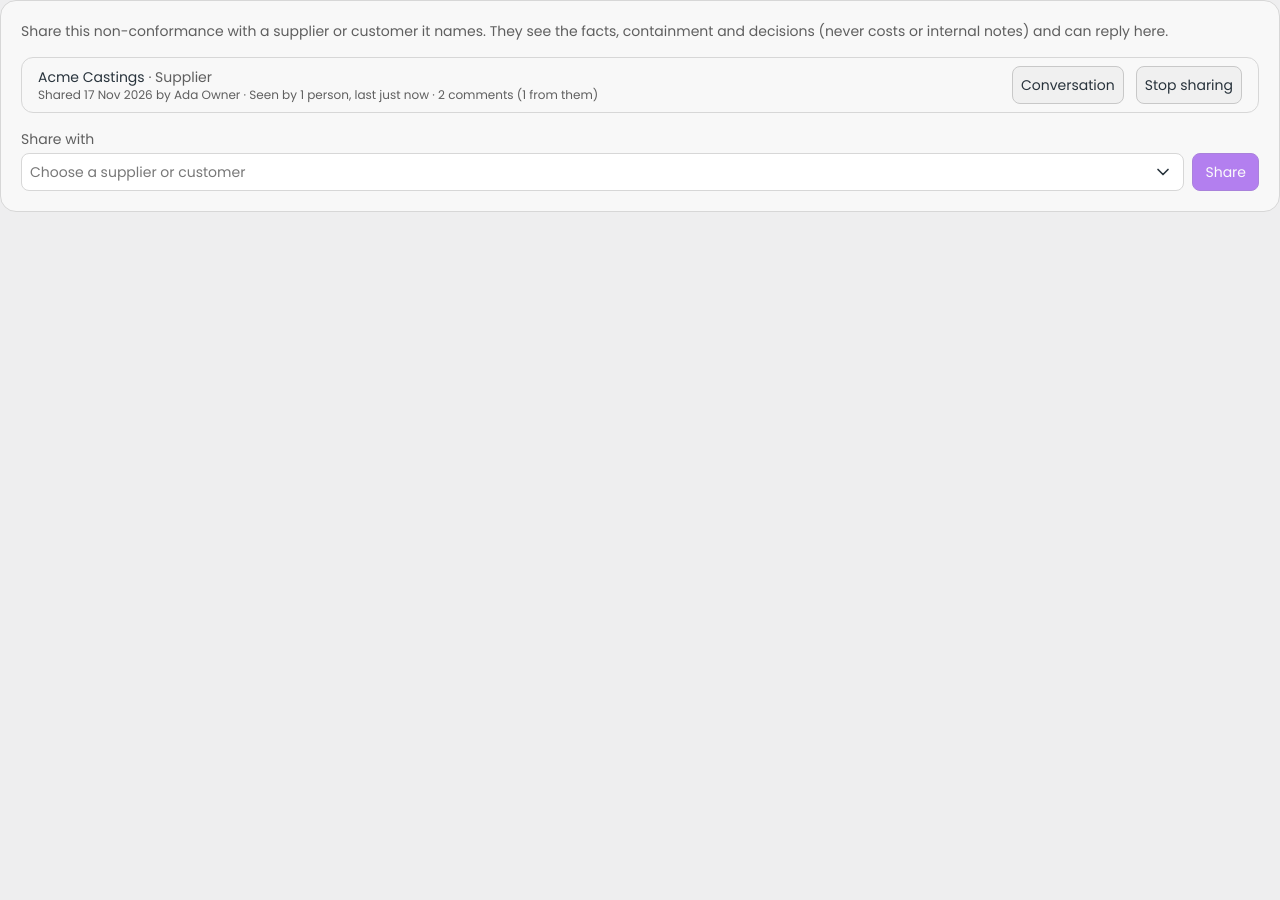
Test: the share card on a record › stopping asks for a reason
Later steps or results of the test are not shown.
Click the button with aria-label "Stop sharing with Acme Castings": click(1189, 85) [1136,66,1242,104]
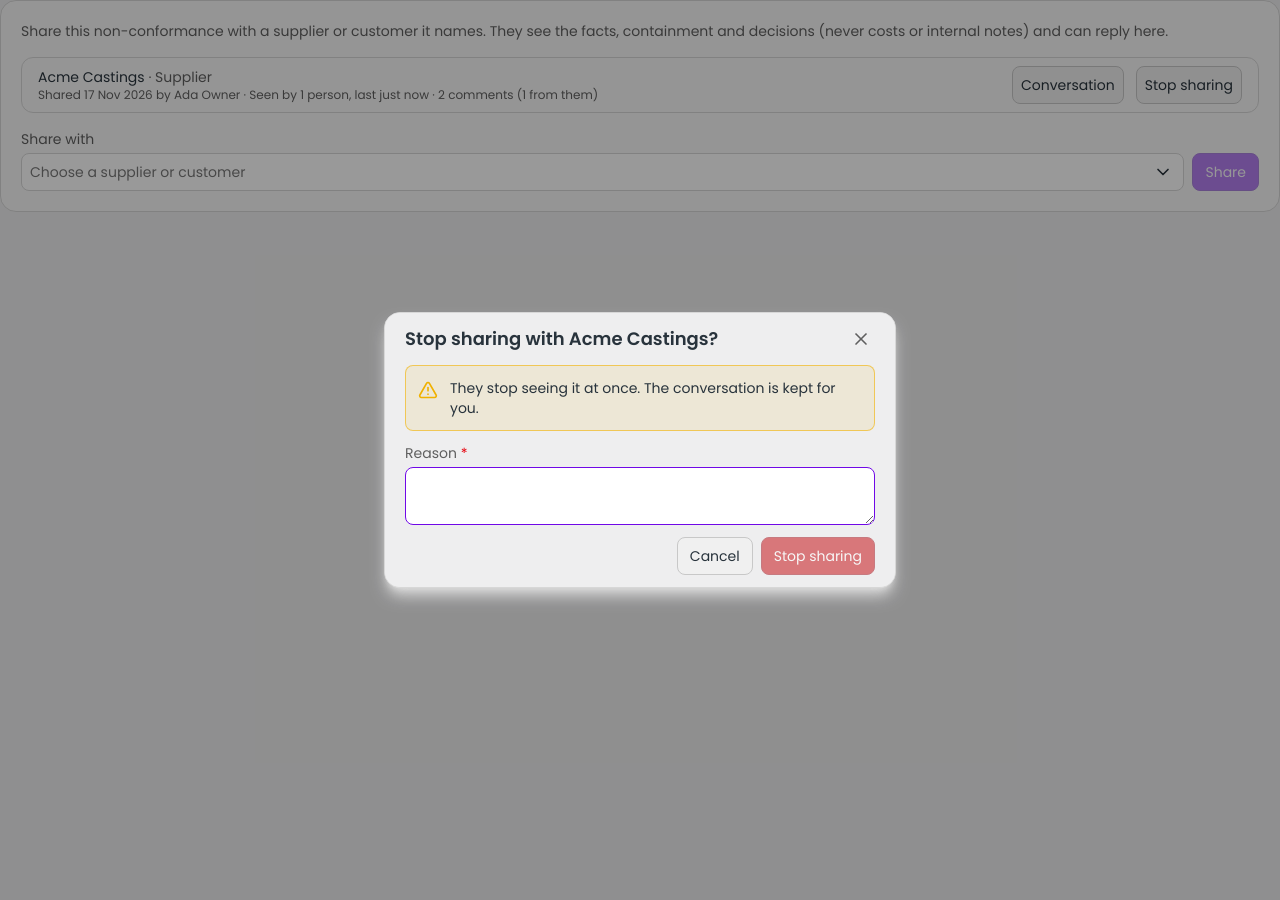
Expected: the button "Stop sharing" is disabled, [761,537,875,575]
